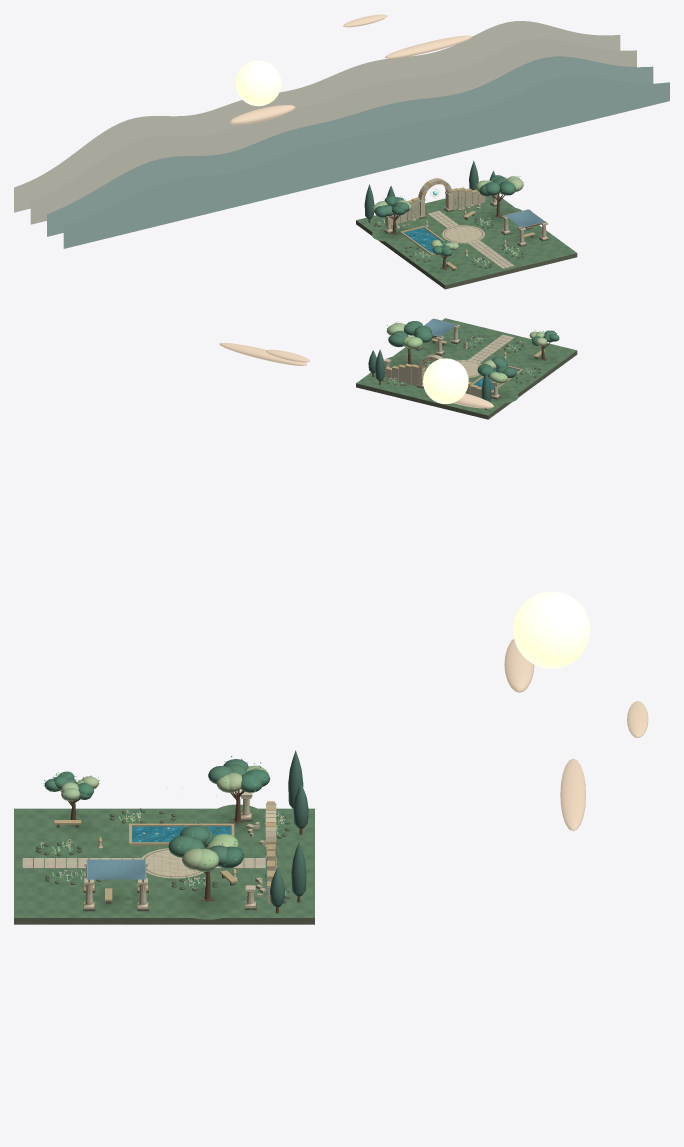
The model's file is garden.glb.
The picture shows the model from 3 angles, top to bottom: view 1: azimuth 30°, elevation 25°; view 2: azimuth 150°, elevation 25°; view 3: azimuth 270°, elevation 25°; orthographic projection. The views are drawn at different scales.
Visible parts, largest first — view 1: Moon Garden - Original Courtyard; view 2: Moon Garden - Original Courtyard; view 3: Moon Garden - Original Courtyard.
Part boxes in pixels (box(x1,y1,x2,y2)): Moon Garden - Original Courtyard: box(14, 14, 669, 289); Moon Garden - Original Courtyard: box(219, 318, 577, 419); Moon Garden - Original Courtyard: box(14, 591, 648, 924).
Bounding box in the file's own units: 110 × 21.6 × 61.
19 materials, 8 textured.
